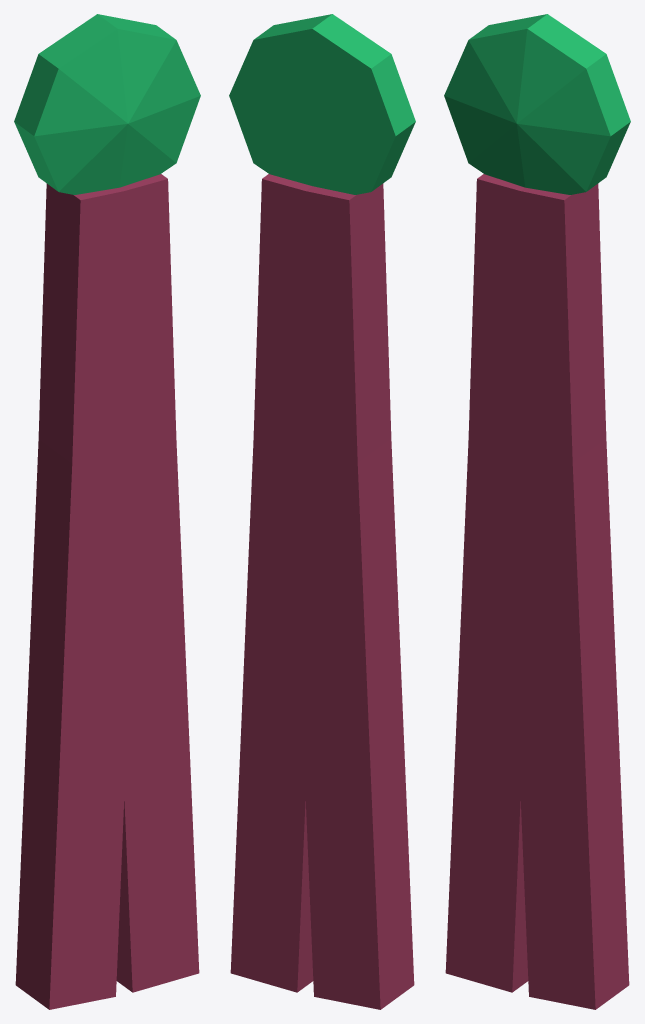
The model's file is red_double_tassel.obj.
3 renders of one model, left to right at view 1: azimuth 30°, elevation 25°; view 2: azimuth 150°, elevation 25°; view 3: azimuth 330°, elevation 25°, orthographic.
Parts seen in each view (by area): view 1: double_tassel_strand_00, double_tassel_strand_01, double_tassel_strand_00_edge, double_tassel_knot, double_tassel_strand_01_edge; view 2: double_tassel_strand_00, double_tassel_strand_01, double_tassel_strand_00_edge, double_tassel_knot, double_tassel_strand_01_edge; view 3: double_tassel_strand_01, double_tassel_strand_00, double_tassel_strand_01_edge, double_tassel_knot, double_tassel_strand_00_edge.
Part boxes in pixels (<box>): double_tassel_strand_00: <box>49,186,147,1009</box>; double_tassel_strand_01: <box>101,179,199,992</box>; double_tassel_strand_00_edge: <box>15,183,123,1009</box>; double_tassel_knot: <box>14,14,200,194</box>; double_tassel_strand_01_edge: <box>116,174,167,992</box>; double_tassel_strand_00: <box>282,186,380,1009</box>; double_tassel_strand_01: <box>230,179,327,992</box>; double_tassel_strand_00_edge: <box>306,183,414,1009</box>; double_tassel_knot: <box>229,14,415,194</box>; double_tassel_strand_01_edge: <box>262,174,313,992</box>; double_tassel_strand_01: <box>497,186,595,1009</box>; double_tassel_strand_00: <box>445,179,543,992</box>; double_tassel_strand_01_edge: <box>521,183,629,1009</box>; double_tassel_knot: <box>444,14,630,194</box>; double_tassel_strand_00_edge: <box>477,174,528,992</box>.
Bounding box in the file's own units: 0.108 × 0.595 × 0.0421.
